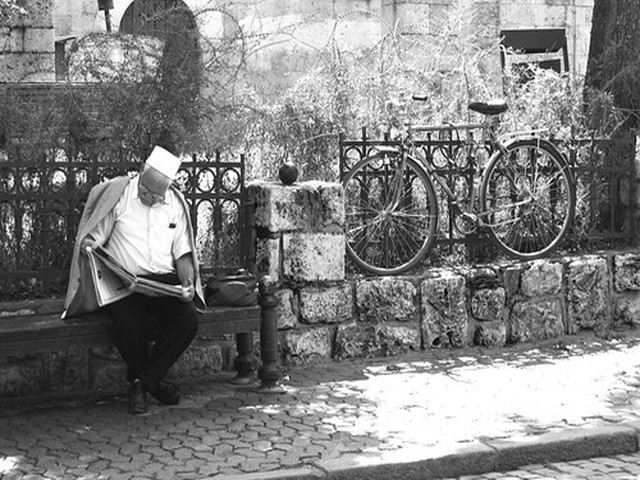Person: (71, 145, 221, 418)
